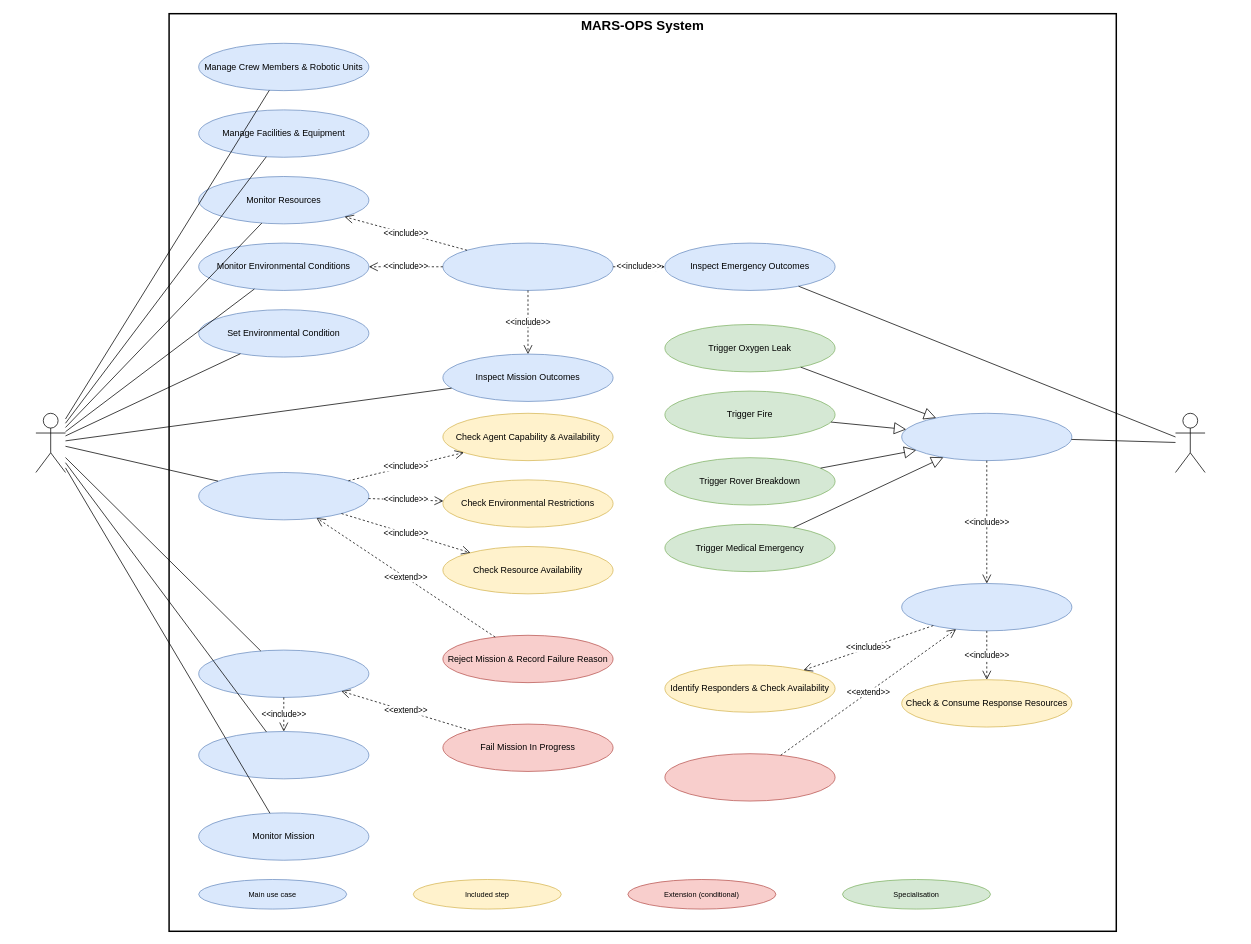
The diagram is 1251 pixels wide and 944 high, and some of its shapes have lost their labels. Each missing label, with the centre of its shape:
Advance Simulation Time: point (283, 755)
Colony Operator: point (50, 442)
Emergency Operator: point (1190, 442)
Execute Mission: point (283, 673)
Generate Colony Status Report: point (527, 266)
Handle Emergency: point (986, 607)
Mark Emergency Unresolved: point (749, 777)
Submit & Assign Mission: point (283, 496)
Trigger Emergency: point (986, 437)
